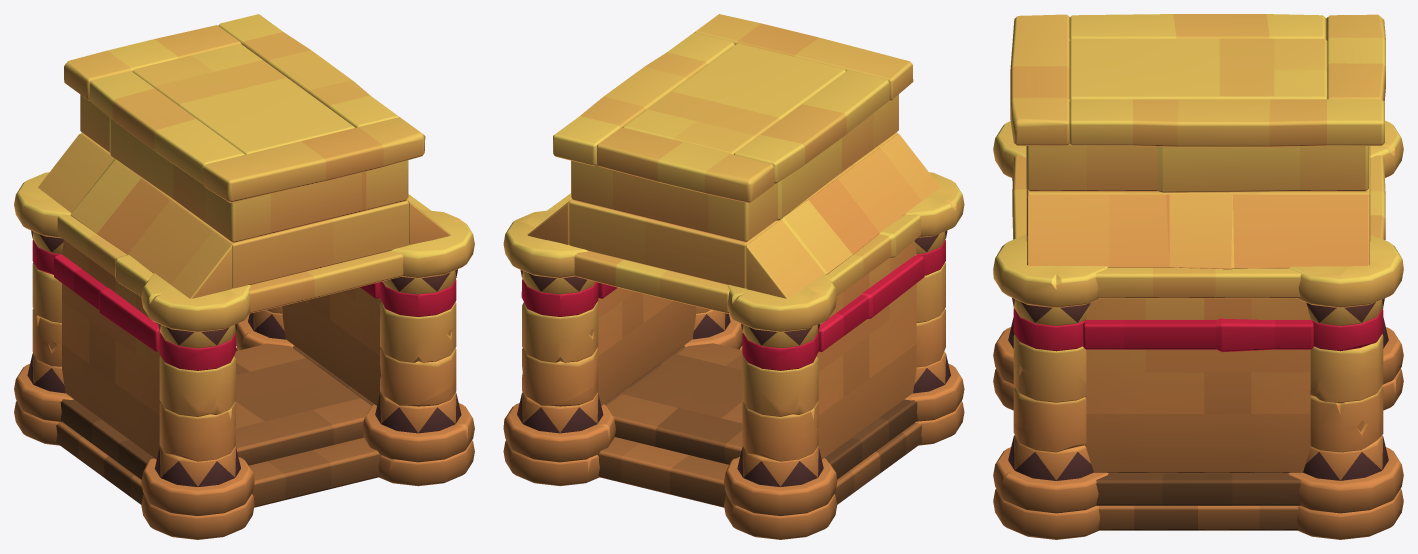
The model's file is hallway_1.fbx.
3 renders of one model, left to right at view 1: azimuth 30°, elevation 25°; view 2: azimuth 150°, elevation 25°; view 3: azimuth 270°, elevation 25°, orthographic. The views are drawn at different scales.
Parts seen in each view (by area): view 1: hallway_1; view 2: hallway_1; view 3: hallway_1.
Boxes of the visible parts, x1,y1,x2,y2 form: hallway_1: [14, 14, 474, 539]; hallway_1: [503, 14, 964, 539]; hallway_1: [993, 14, 1403, 539].
Size of the model in its own units: 723 by 756 by 723.
